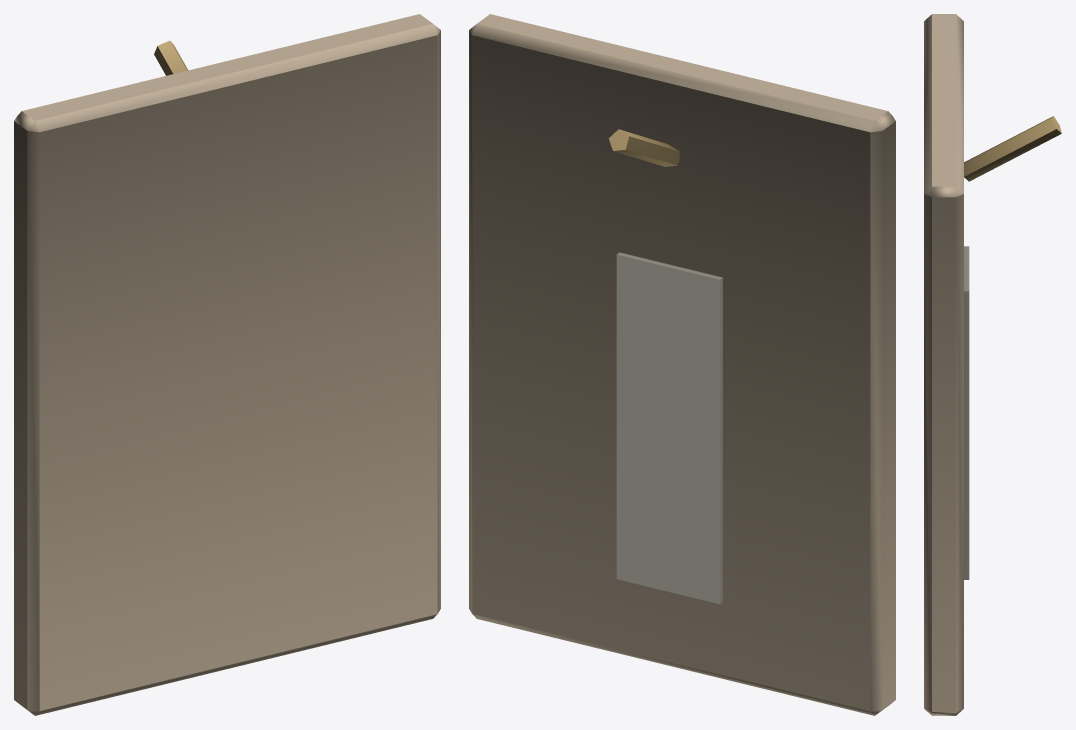
Rendered from key_hook_empty.glb.
3 views of the same model, side by side, from view 1: azimuth 30°, elevation 25°; view 2: azimuth 150°, elevation 25°; view 3: azimuth 270°, elevation 25° (orthographic). The views are drawn at different scales.
Visible parts, largest first — view 1: static; view 2: static; view 3: static.
Boxes of the visible parts, <box> form: static: <box>14,14,440,715</box>; static: <box>469,14,895,715</box>; static: <box>924,14,1061,715</box>.
Size of the model in its own units: 0.16 by 0.22 by 0.0519.
